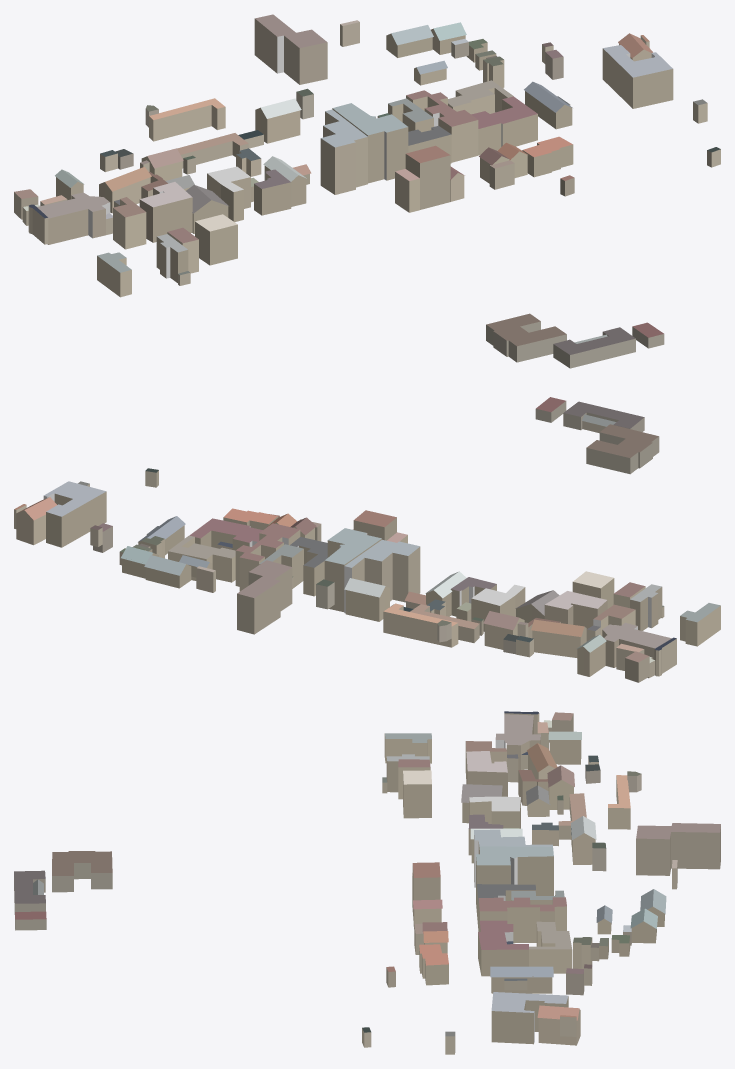
The picture shows the model from 3 angles, top to bottom: view 1: azimuth 30°, elevation 25°; view 2: azimuth 150°, elevation 25°; view 3: azimuth 270°, elevation 25°; orthographic projection.
Visible parts, largest first — view 1: tuile; view 2: tuile; view 3: tuile.
Boxes of the visible parts, x1=… form: tuile: x1=14, y1=14, x2=720, y2=368; tuile: x1=14, y1=397, x2=720, y2=682; tuile: x1=14, y1=711, x2=720, y2=1054.
Bounding box in the file's own units: 244 × 33.03 × 237.
